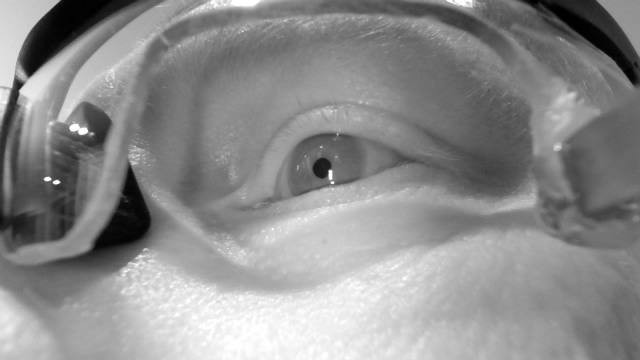pupil: (312, 157, 332, 180)
